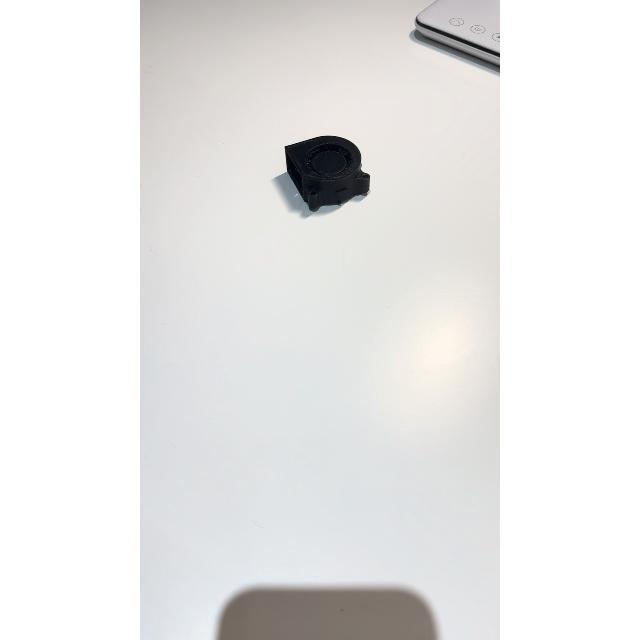Pieza3: (277, 132, 378, 226)
